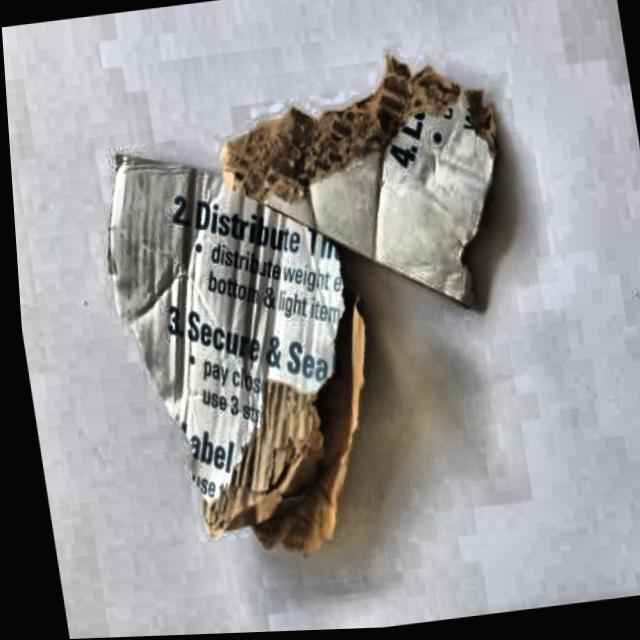Cardbox: (46, 28, 571, 602)
